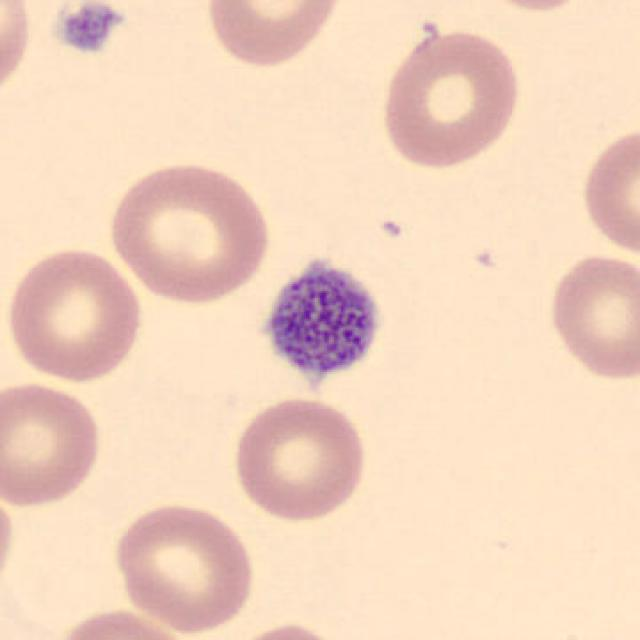Platelets: (247, 247, 389, 402), (51, 0, 126, 56)
RBC: (103, 157, 276, 305), (377, 23, 524, 173), (108, 499, 258, 635), (4, 243, 146, 386), (228, 392, 370, 526), (0, 378, 105, 512), (544, 248, 638, 382), (201, 0, 348, 71), (576, 121, 638, 258), (49, 604, 195, 640), (0, 0, 36, 111), (220, 619, 354, 640), (0, 480, 20, 604), (464, 0, 599, 14)
